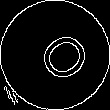O_SW: (22, 22, 88, 88)
